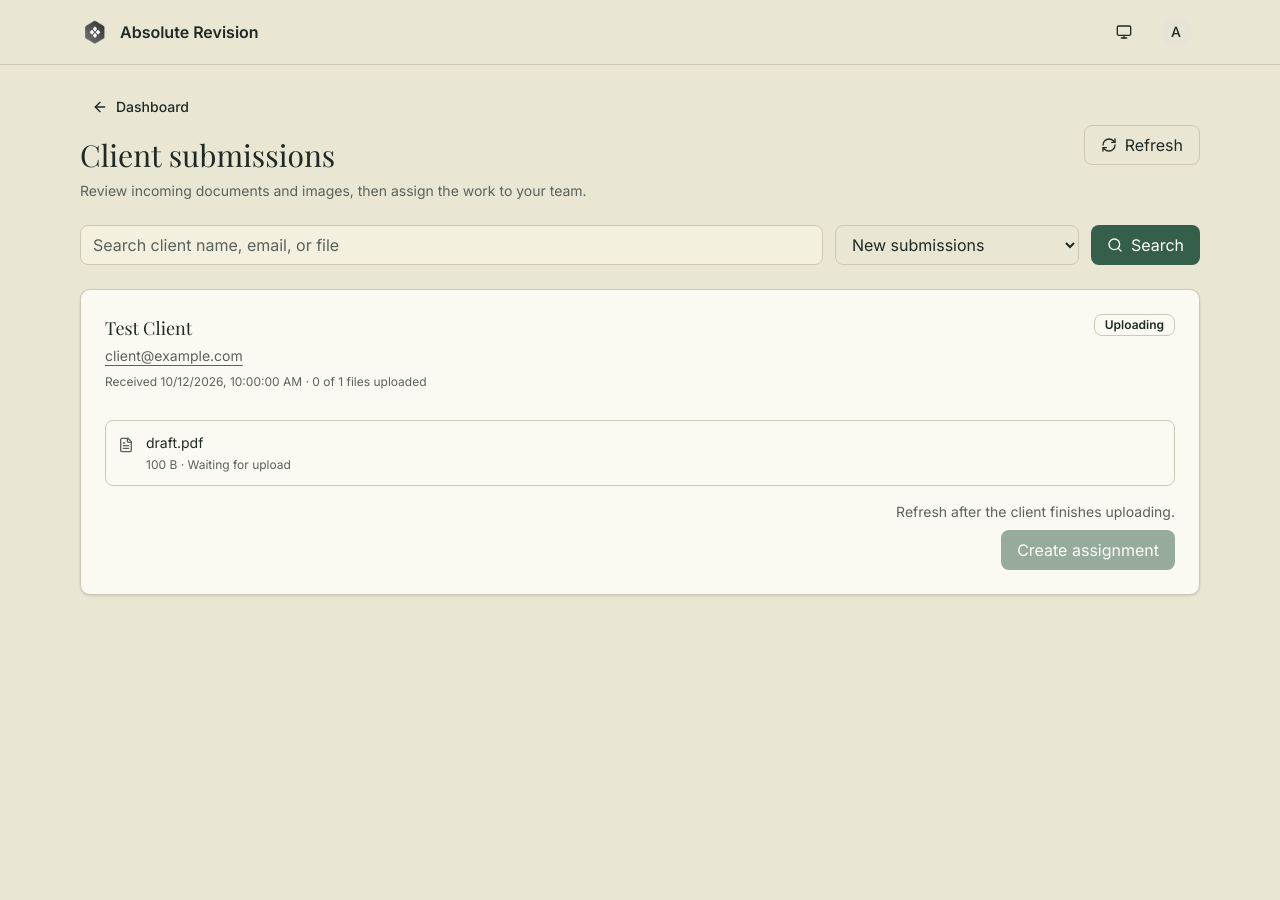
client submissions inbox › prevents conversion during incomplete uploads and offers the existing assignment after conversion
Check: the button "Create assignment" is disabled, box [1001,530,1175,570]
What coordinates should you click on to do the following:
click the button "Refresh"
I would click on:
 (1142, 145)
Its box is [1084,125,1200,165].
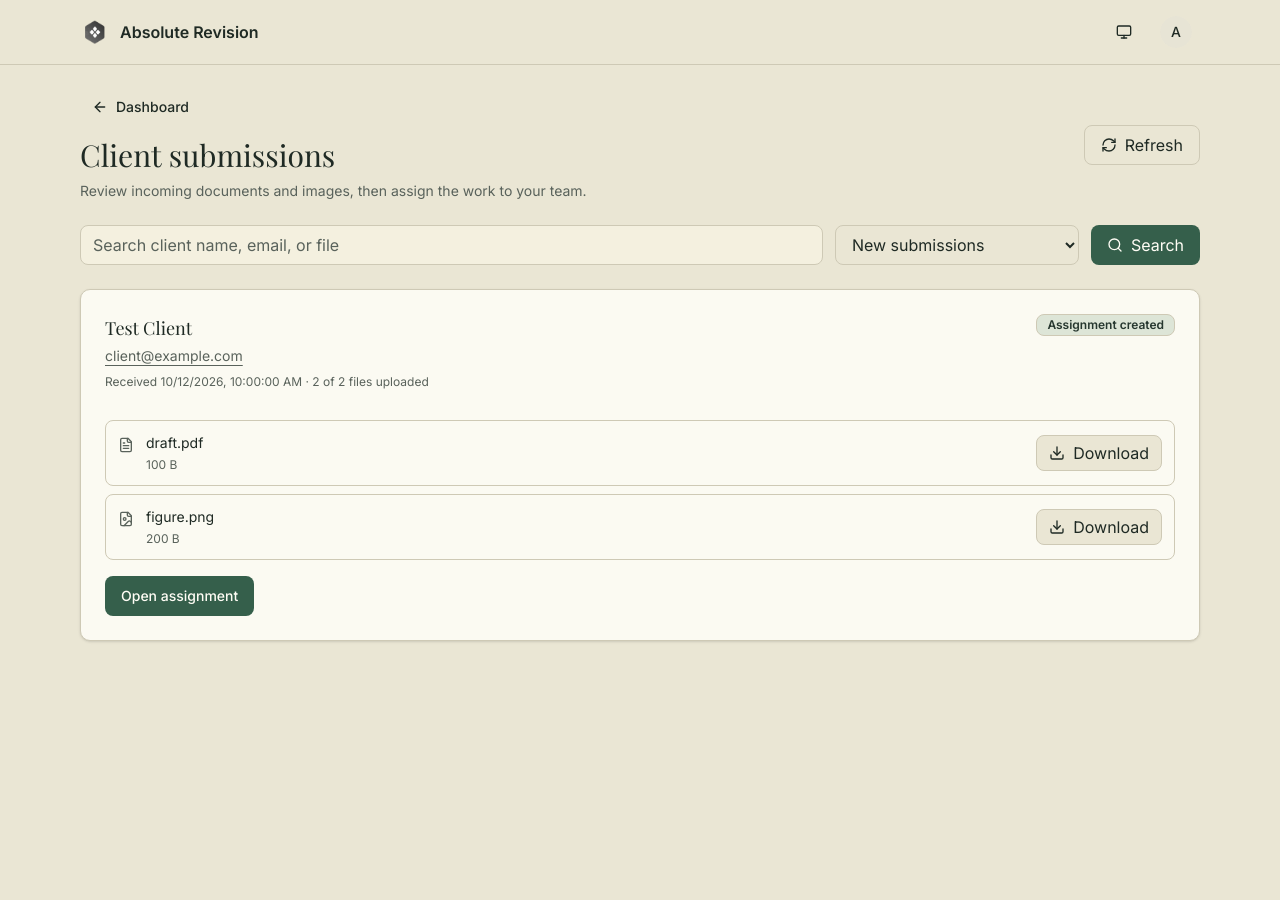
Check: the button "Create assignment" is gone
